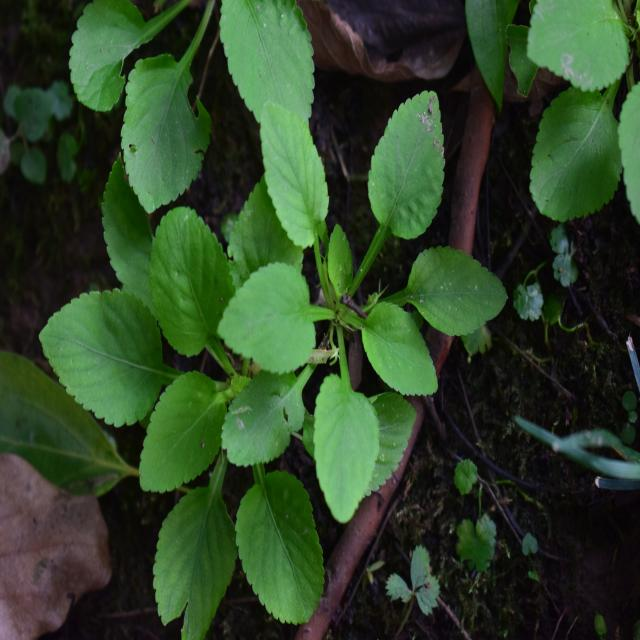Viola: (64, 179, 356, 612), (256, 102, 504, 546)
